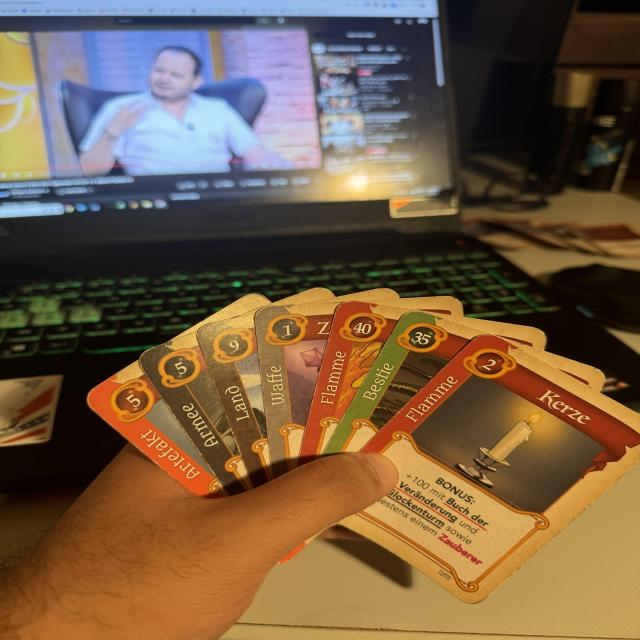Basilisk: (322, 309, 481, 454)
Candle: (337, 331, 640, 607)
Gem Of Order: (80, 363, 227, 500)
Magic Wand: (254, 302, 333, 479)
Mountain: (196, 316, 274, 491)
Rangers: (134, 333, 253, 498)
Wildfire: (296, 301, 404, 468)
